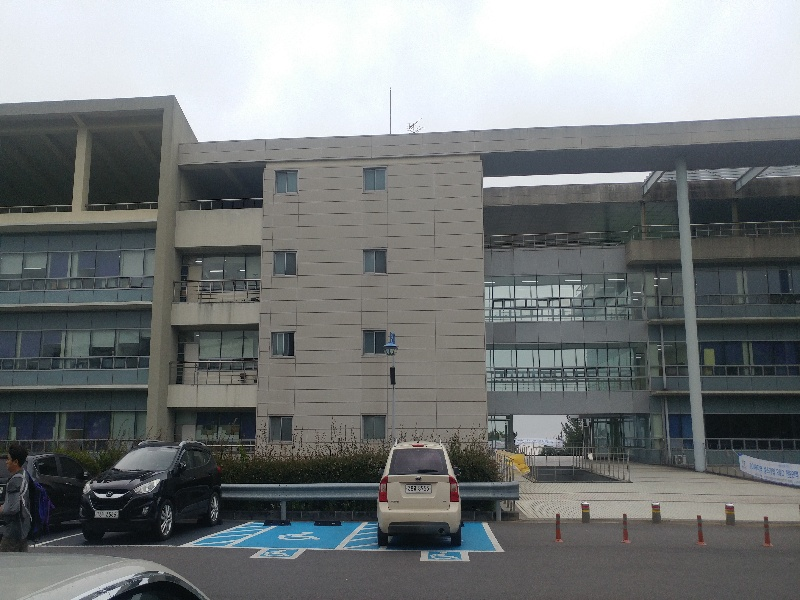Engineering College Building 4: (8, 104, 796, 439)
